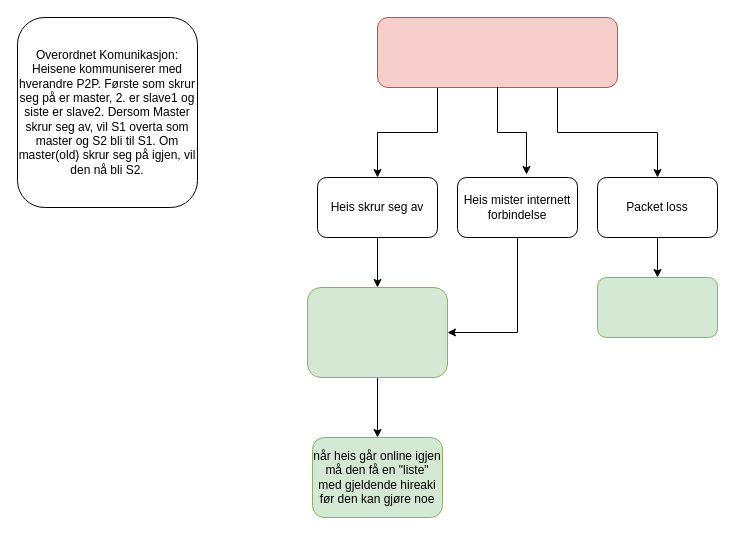
Some shapes in this 735 by 535 pixel diagram are drawn without their labels. Here are the shapes that lost their labels. From the top down, the box of each, then its label:
(376, 16, 618, 88): Potential errors
(596, 276, 718, 338): TCP burde fikse dette
(306, 286, 448, 378): Den som har lengst oppetid er Master uansett, den med minst oppetid er slave 2
